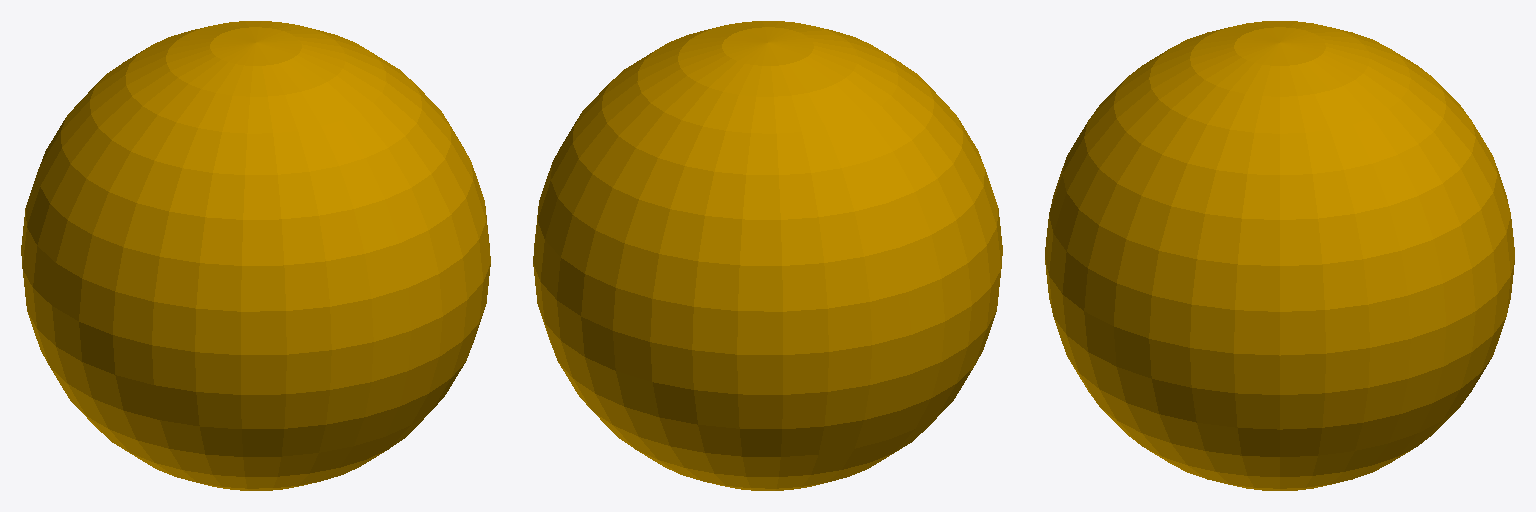
The model's file is sun.obj.
The picture shows the model from 3 angles: view 1: azimuth 30°, elevation 25°; view 2: azimuth 150°, elevation 25°; view 3: azimuth 270°, elevation 25°; orthographic projection.
Visible parts, largest first — view 1: Sphere; view 2: Sphere; view 3: Sphere.
Boxes of the visible parts, x1=… form: Sphere: x1=21, y1=21, x2=490, y2=490; Sphere: x1=533, y1=21, x2=1002, y2=490; Sphere: x1=1045, y1=21, x2=1514, y2=490.
Bounding box in the file's own units: 1 × 1 × 1.